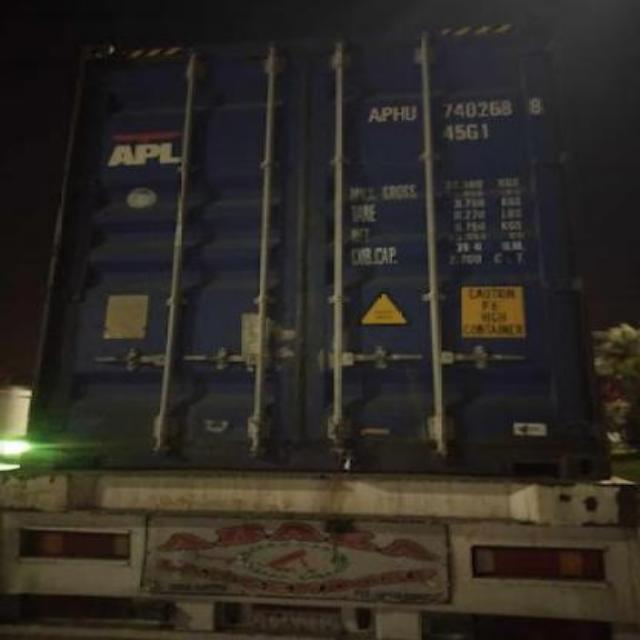0: (466, 100, 478, 118)
2: (478, 100, 490, 118)
4: (454, 102, 466, 118)
6: (490, 100, 502, 116)
7: (441, 104, 454, 118)
8: (530, 97, 542, 115), (502, 100, 512, 116)
A: (368, 107, 380, 123)
H: (394, 105, 404, 121)
P: (380, 105, 392, 123)
U: (404, 105, 418, 121)
